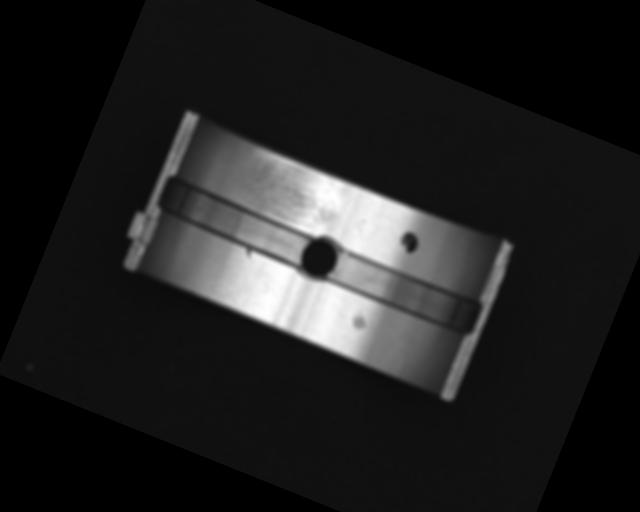blot: (396, 227, 423, 255)
bruise: (347, 309, 371, 334), (243, 247, 254, 260)
gap: (152, 173, 317, 272), (324, 243, 484, 339)
hole: (294, 229, 346, 287)
scratch: (235, 147, 351, 240)
